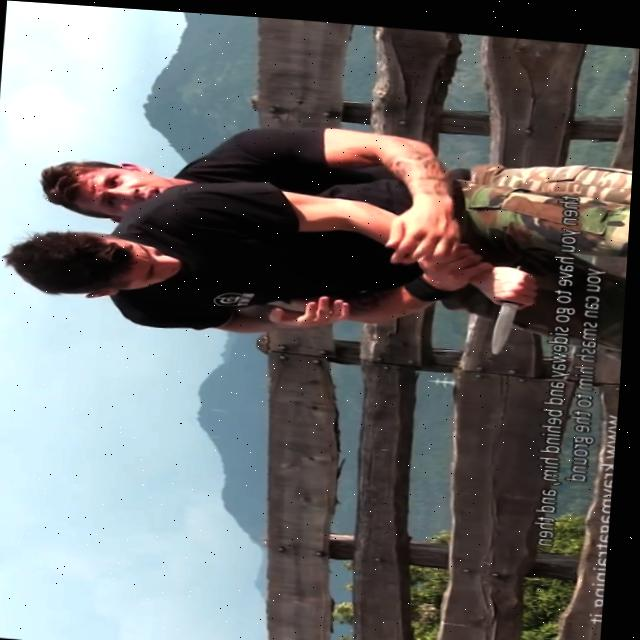knife: (481, 291, 540, 351)
